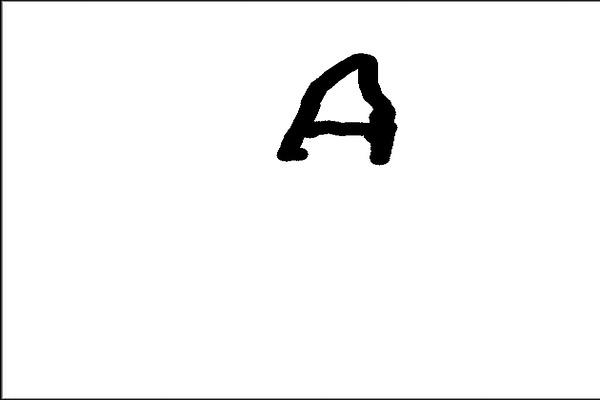A: (271, 39, 408, 183)
